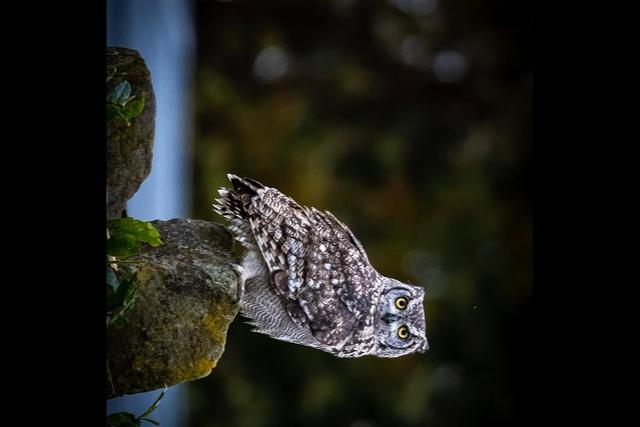Non_Gorille: (179, 156, 481, 427)
